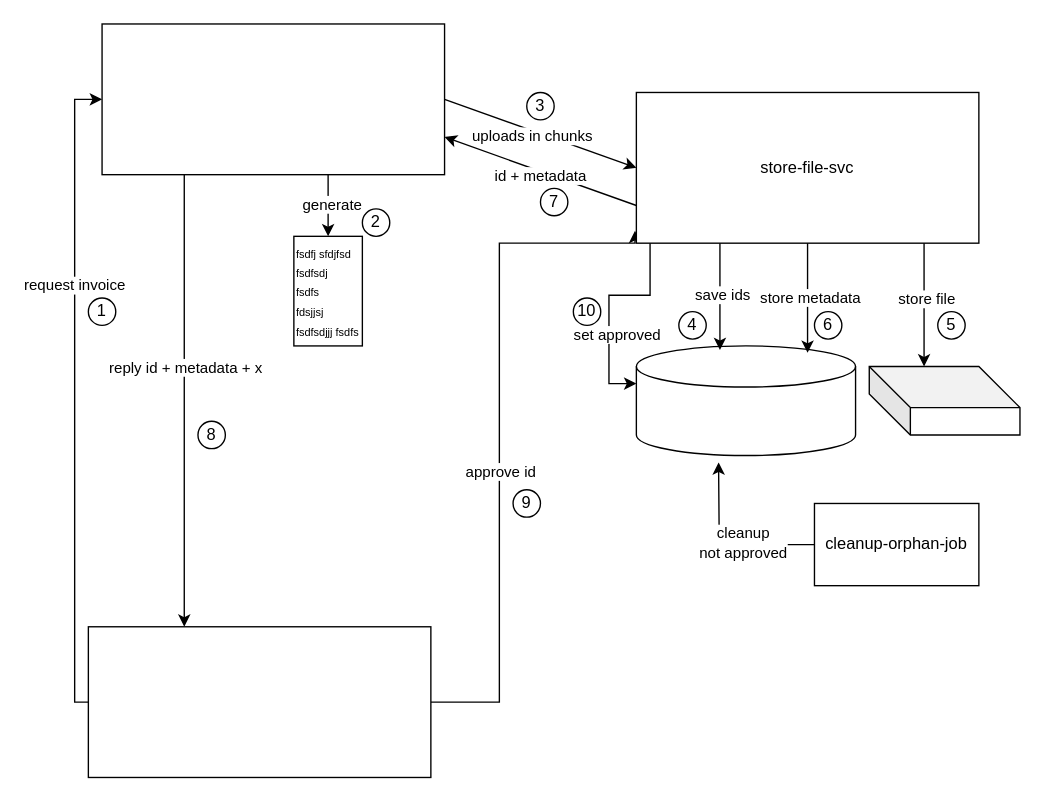
The diagram is 1044 pixels wide and 801 high, and some of its shapes have lost their labels. Here are the shapes that lost their labels. From the top down, the box of each, then its label:
(101, 23, 445, 175): generate-document-svc
(635, 345, 856, 456): MongoDB
(868, 365, 1020, 435): Storage
(87, 625, 431, 777): order-food-svc
